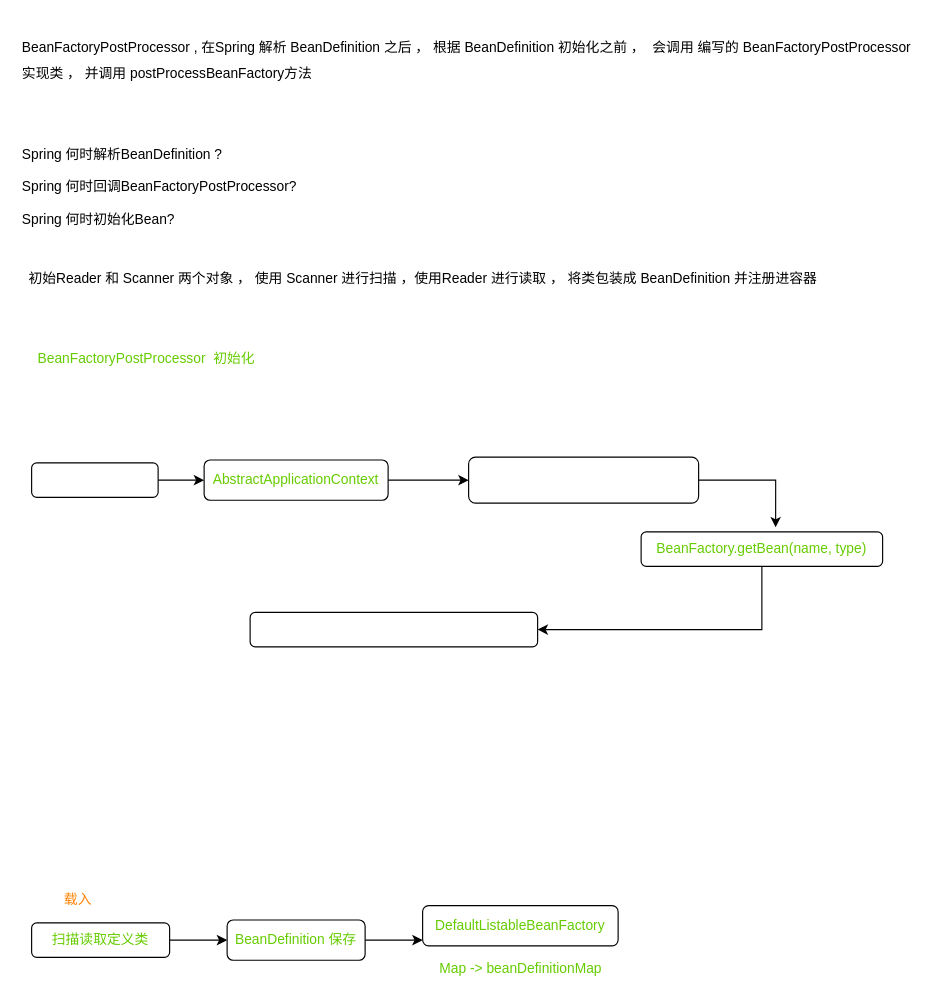
Some shapes in this 936 by 999 pixel diagram are drawn without their labels. The centre of each missing label's shape, as x and y in pixels:
ApplicationContext: the point at 94,479
invokeBeanFactoryPostProcessor: the point at 583,479
postProcessor.postProcessBeanFactory(): the point at 393,629
